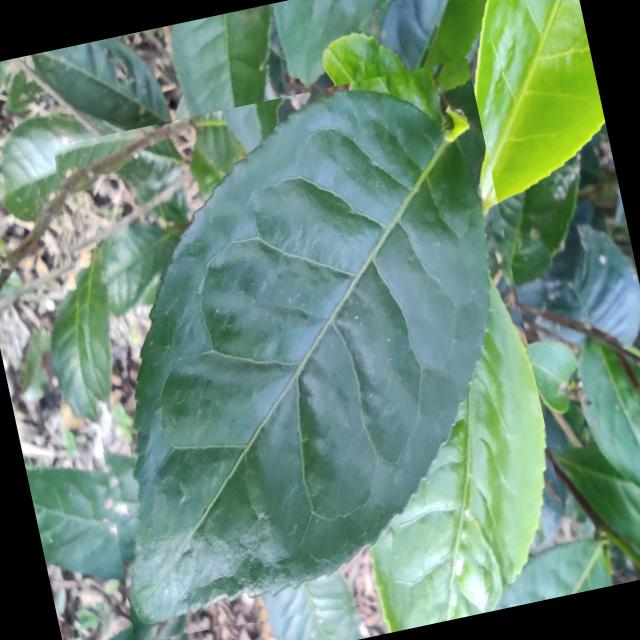Category D(7+ days, Not for Tea): (29, 58, 574, 640)
